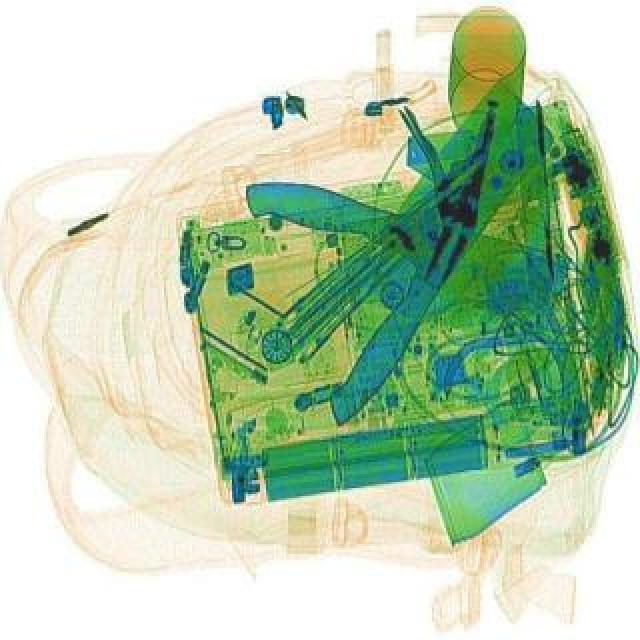knife: (268, 78, 576, 430), (224, 174, 576, 358)
